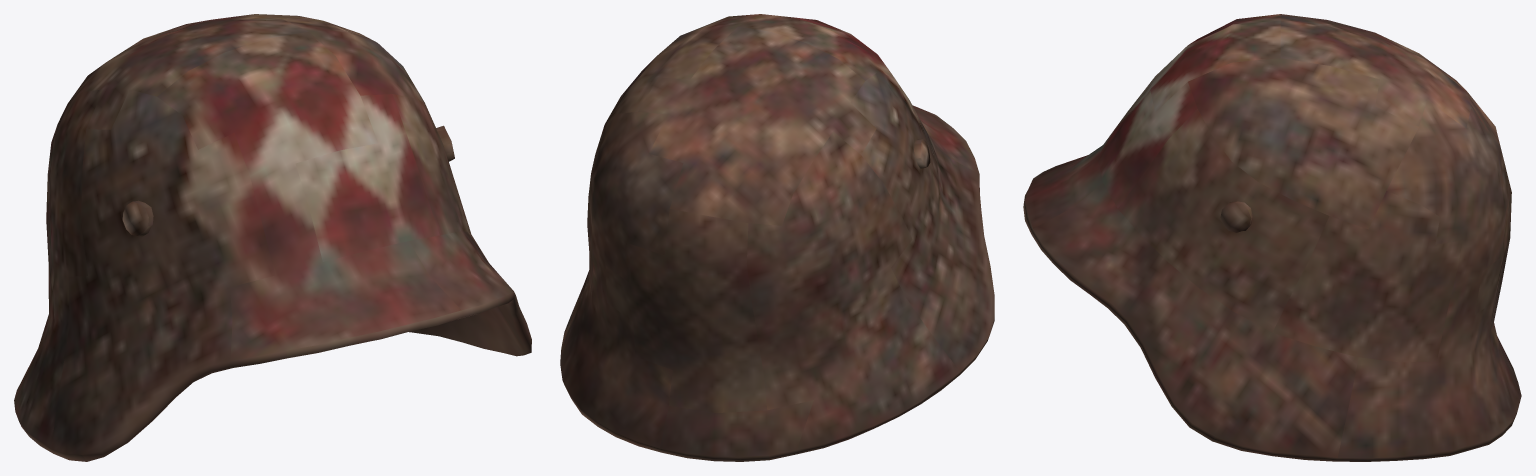
The model's file is witzsoldat_helmet.glb.
The picture shows the model from 3 angles, left to right: view 1: azimuth 30°, elevation 25°; view 2: azimuth 150°, elevation 25°; view 3: azimuth 270°, elevation 25°; orthographic projection. The views are drawn at different scales.
Visible parts, largest first — view 1: Helmet; view 2: Helmet; view 3: Helmet.
Part boxes in pixels (<box>): Helmet: <box>14,14,531,461</box>; Helmet: <box>560,14,994,461</box>; Helmet: <box>1023,14,1521,461</box>.
Size of the model in its own units: 0.2682 by 0.2324 by 0.2879.
1 material, 1 textured.
